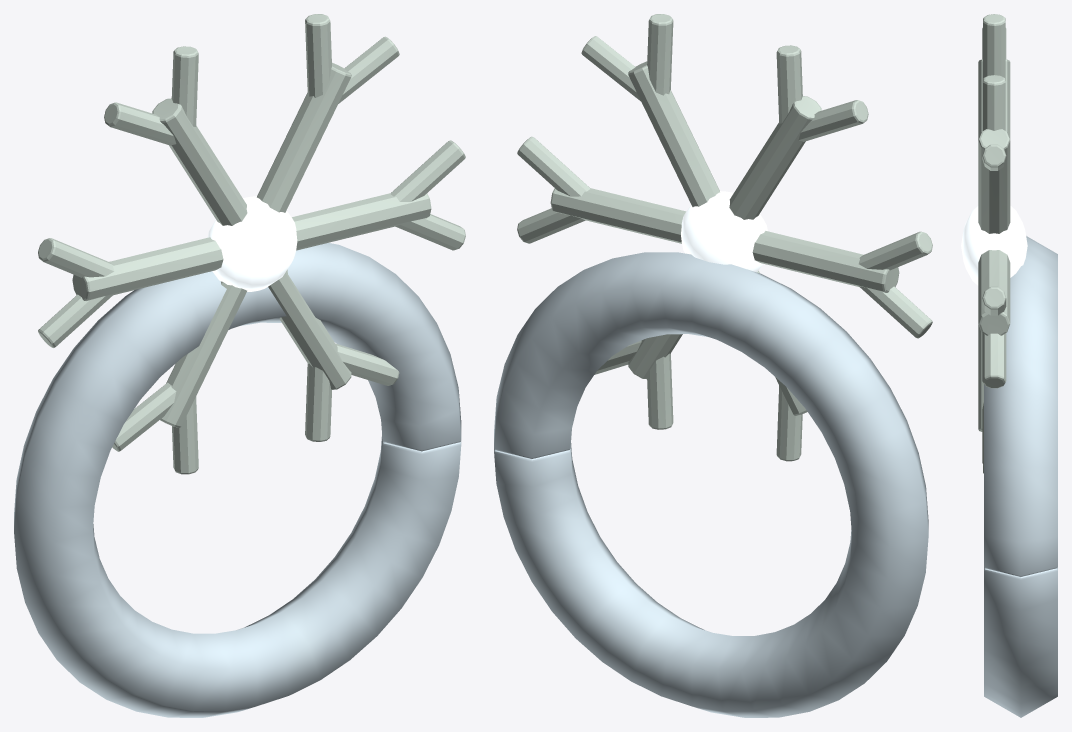
Rendered from item_079.glb.
3 renders of one model, left to right at view 1: azimuth 30°, elevation 25°; view 2: azimuth 150°, elevation 25°; view 3: azimuth 270°, elevation 25°, orthographic. The views are drawn at different scales.
Visible parts, largest first — view 1: Item_079_snowflake_ring; view 2: Item_079_snowflake_ring; view 3: Item_079_snowflake_ring.
Part boxes in pixels (<box>): Item_079_snowflake_ring: <box>14,14,465,717</box>; Item_079_snowflake_ring: <box>494,14,932,717</box>; Item_079_snowflake_ring: <box>961,14,1057,717</box>.
Size of the model in its own units: 0.3639 by 0.5354 by 0.0727.
